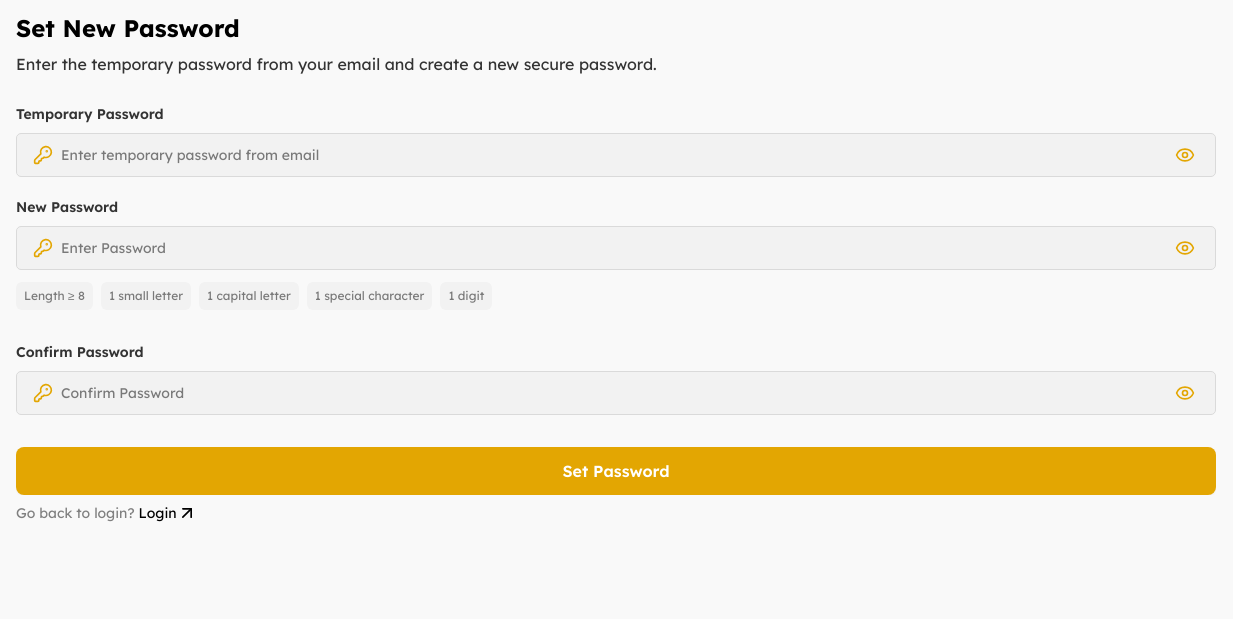
Test case: FirstLoginSetupPasswordPage › submitting is never a silent no-op › names the missing temporary password rather than doing nothing
Type "TradeHarmony1!" into the password field labelled "New Password" at point(612, 248), box [61,238,1163,258]
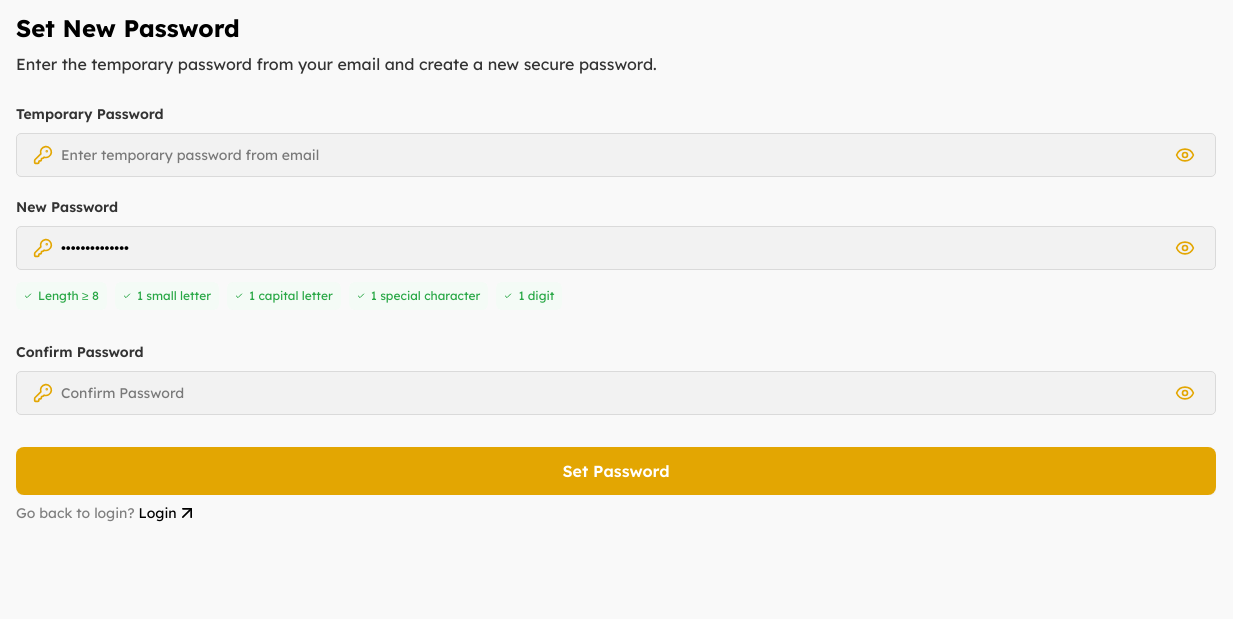
Type "TradeHarmony1!" into the password field labelled "Confirm Password" at point(612, 393), box [61,382,1163,404]
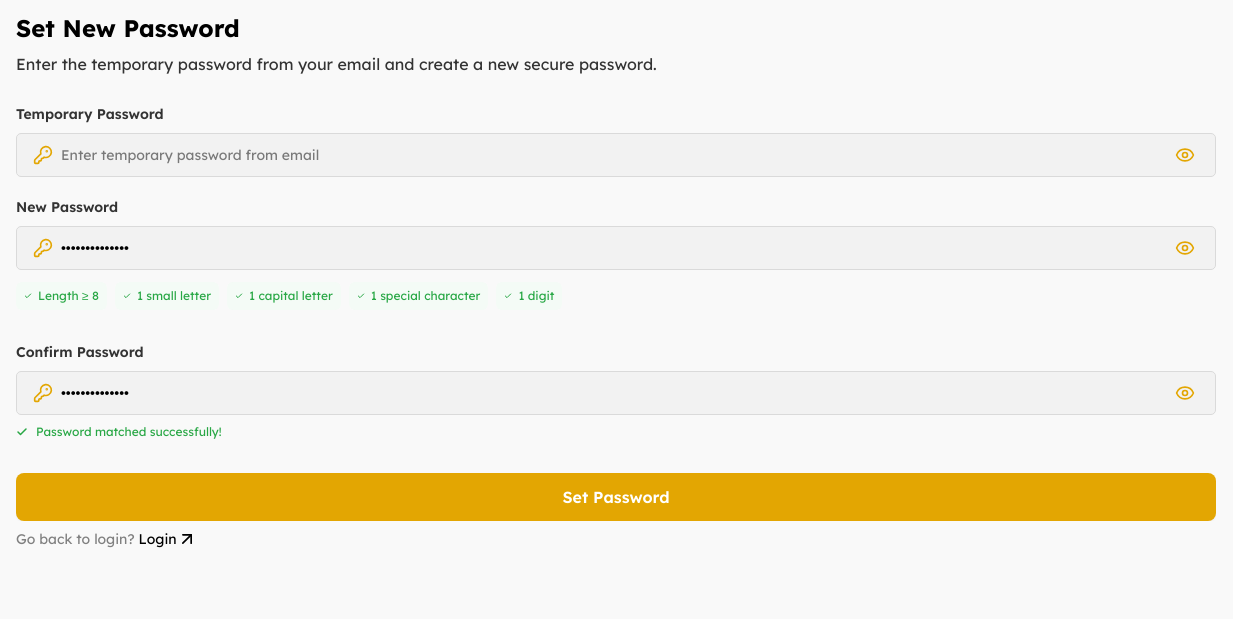
Click the button "Set Password" at point(616, 497), box [16,473,1216,521]
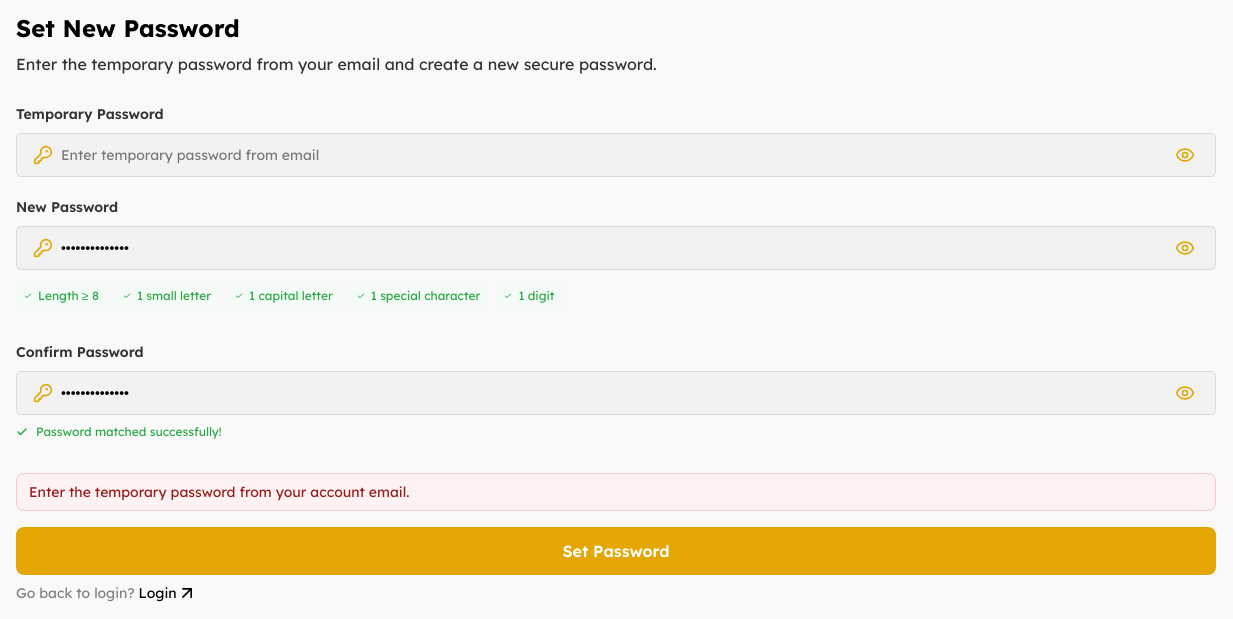
Check: the text "Enter the temporary password from your account email." is shown, box [16,473,1216,511]
